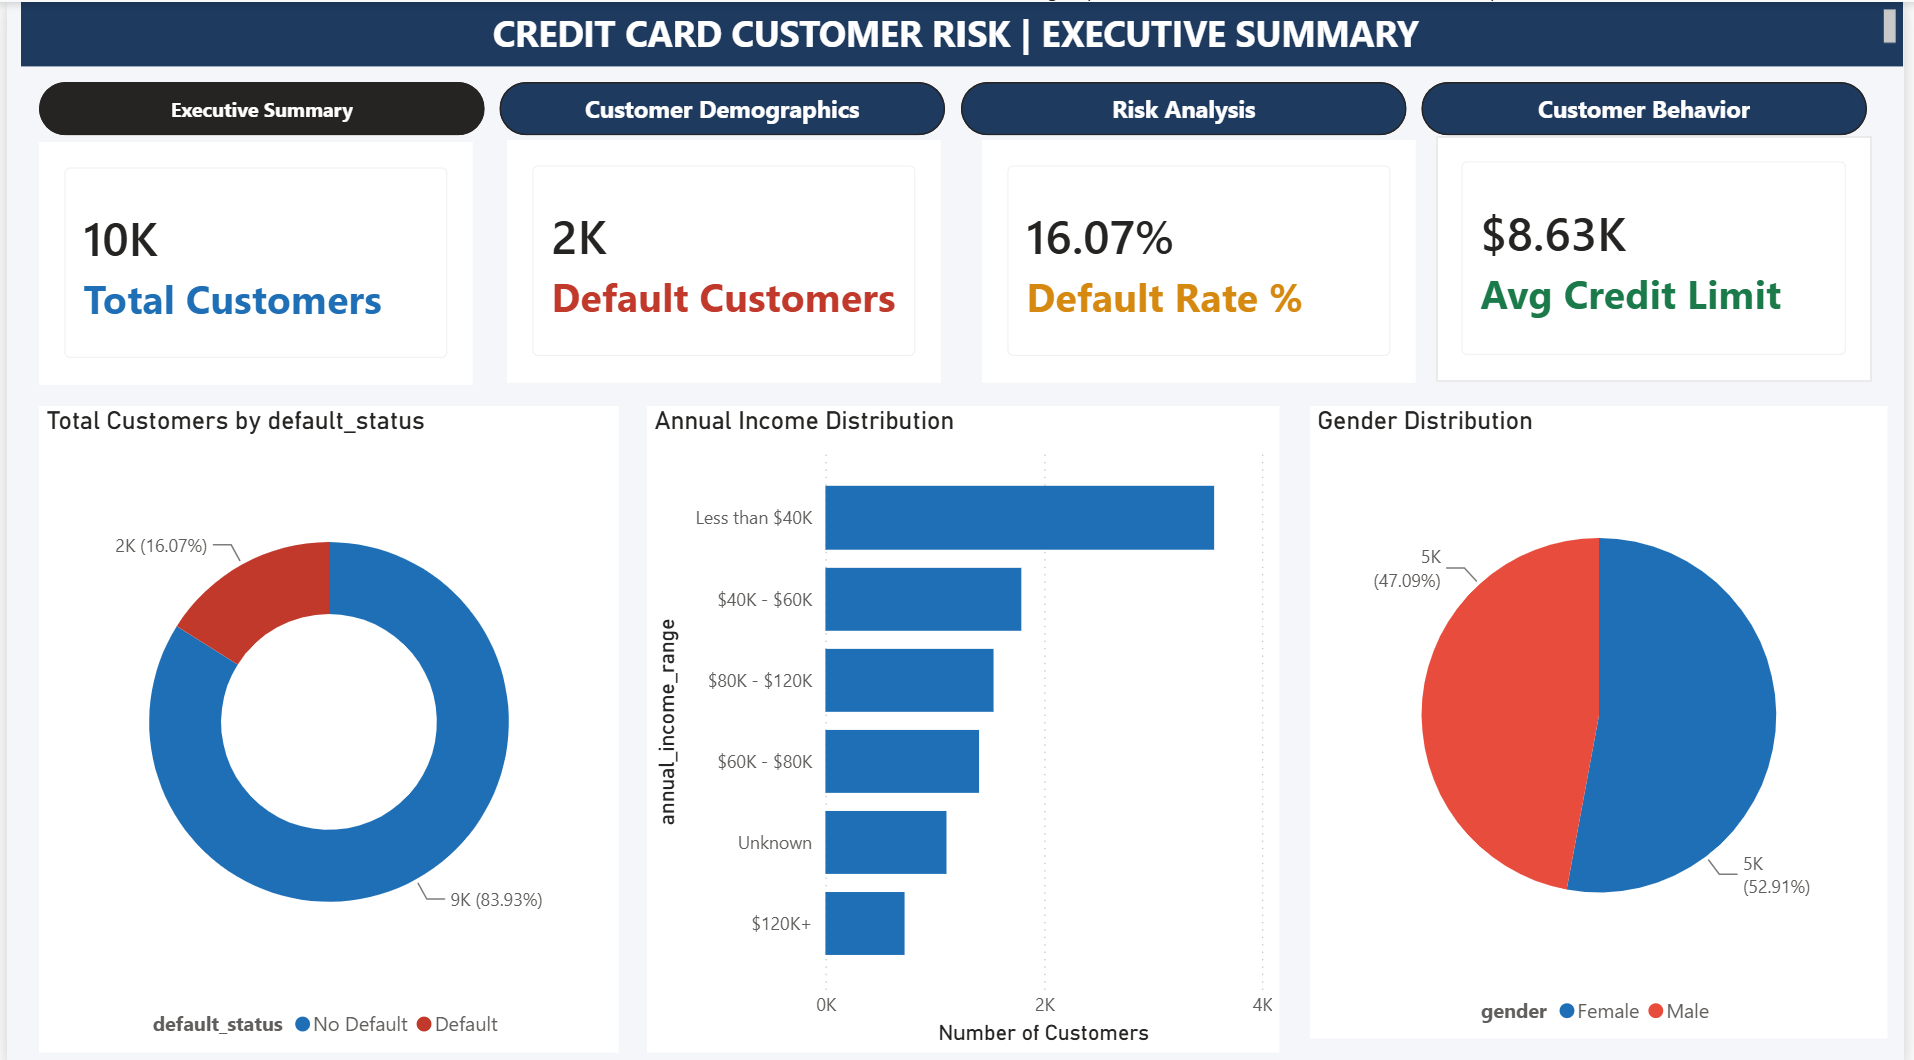

The page's visual inventory and layout, read from the dashboard file:
{"tool":"powerbi","page":{"name":"Executive Summary","canvas":[1280,720],"ordinal":0},"visuals":[{"type":"textbox","box":[9.5,0,1270.5,43.6],"z":0},{"type":"cardVisual","fields":{"Data":["_Measures.Avg Credit Limit"]},"box":[964.2,91.1,294.6,165.5],"z":1000},{"type":"cardVisual","fields":{"Data":["_Measures.Default Rate %"]},"box":[657.5,92.6,293,164],"z":2000},{"type":"donutChart","fields":{"Category":["CreditCardData.default_status"],"Y":["_Measures.Total Customers"]},"box":[21.3,273.3,391.7,435.8],"z":3000},{"type":"clusteredBarChart","title":"Annual Income Distribution","fields":{"Category":["CreditCardData.annual_income_range"],"Y":["_Measures.Total Customers"]},"box":[432.7,273.3,426.7,435.8],"z":4000},{"type":"pieChart","title":"Gender Distribution","fields":{"Category":["CreditCardData.gender"],"Y":["_Measures.Total Customers"]},"box":[879.1,273.3,390.2,426.7],"z":5000},{"type":"cardVisual","fields":{"Data":["_Measures.Default Customers"]},"box":[337.1,92.6,293,164],"z":6000},{"type":"cardVisual","fields":{"Data":["_Measures.Total Customers"]},"box":[21.3,94.1,293,164],"z":7000},{"type":"pageNavigator","box":[21.3,54.7,1237.5,36.4],"z":8000}]}

Visuals, with their boxes in screenshot pixels (x1, y1, x2, y2), scaled from the page's 1280x720 canvas onto the 1914x1060 screenshot:
textbox: 14,0,1913,64
cardVisual - _Measures.Avg Credit Limit: 1442,134,1882,378
cardVisual - _Measures.Default Rate %: 983,136,1421,378
donutChart - CreditCardData.default_status x _Measures.Total Customers: 32,402,618,1044
"Annual Income Distribution" clusteredBarChart: 647,402,1285,1044
"Gender Distribution" pieChart: 1315,402,1898,1031
cardVisual - _Measures.Default Customers: 504,136,942,378
cardVisual - _Measures.Total Customers: 32,139,470,380
pageNavigator: 32,81,1882,134
